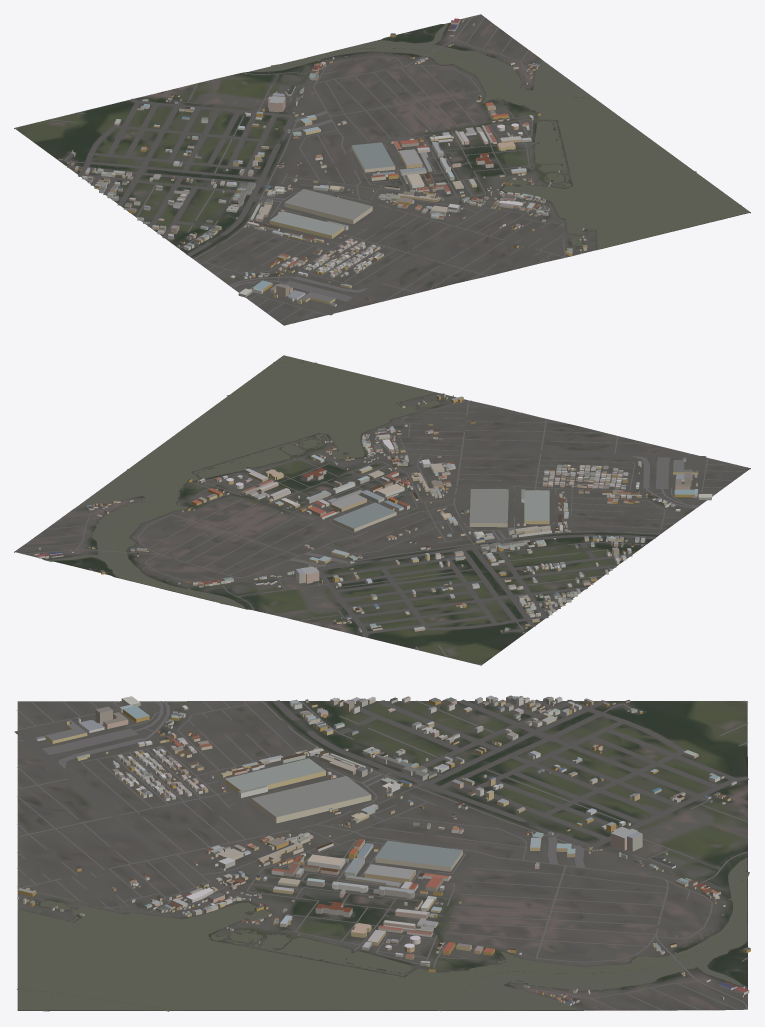
3 views of the same model, one above another, from view 1: azimuth 30°, elevation 25°; view 2: azimuth 150°, elevation 25°; view 3: azimuth 270°, elevation 25° (orthographic). The views are drawn at different scales.
Visible parts, largest first — view 1: ground, water, buildings, roads; view 2: ground, water, buildings, roads; view 3: ground, water, buildings, roads.
Boxes of the visible parts, x1,y1,x2,y2 form: ground: [14, 15, 750, 325]; water: [250, 23, 749, 251]; buildings: [58, 18, 587, 306]; roads: [15, 14, 565, 322]; ground: [14, 355, 750, 665]; water: [47, 355, 448, 608]; buildings: [34, 393, 712, 633]; roads: [14, 400, 745, 664]; ground: [17, 701, 747, 1011]; water: [17, 858, 749, 1011]; buildings: [17, 695, 750, 1005]; roads: [14, 699, 748, 1010].
Bounding box in the file's own units: 1413 × 34.27 × 1413.
